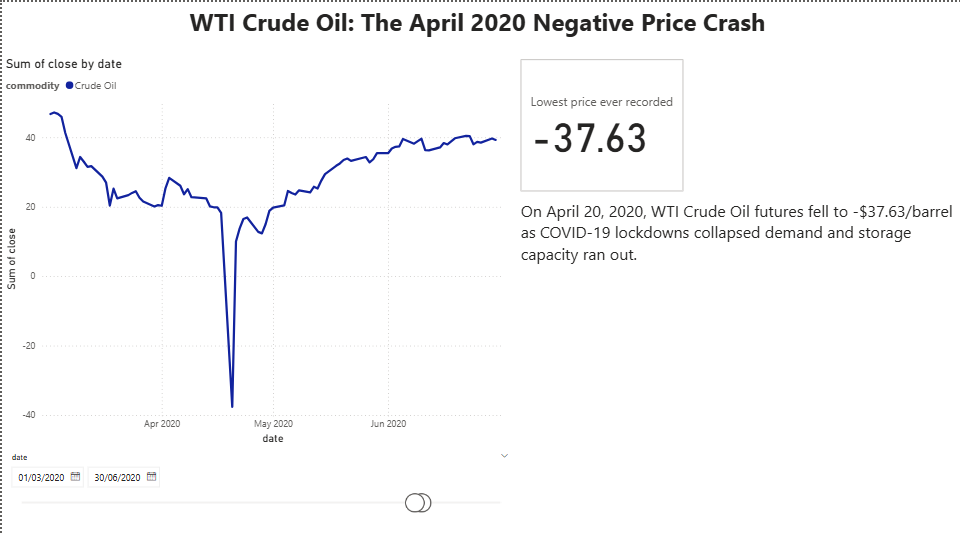

Layout of this report page (visuals, bound fields, positions):
{"tool":"powerbi","page":{"name":"2020-Oil Crash","canvas":[1280,720],"ordinal":1},"visuals":[{"type":"lineChart","title":"Sum of close by date","fields":{"Y":["Sum(all_fuels_cleaned.close)"],"Category":["all_fuels_cleaned.date"],"Series":["all_fuels_cleaned.commodity"]},"box":[0,71.4,687.5,522.8],"z":0},{"type":"slicer","fields":{"Values":["all_fuels_cleaned.date"]},"box":[0,594.2,687.5,126.2],"z":1},{"type":"textbox","box":[687.5,258,592.8,111.1],"z":2},{"type":"textbox","box":[244.3,0,790.4,71.4],"z":3},{"type":"cardVisual","fields":{"Data":["Min(all_fuels_cleaned.close)"]},"box":[687.5,71.4,227.8,186.6],"z":4}]}

Visuals, with their boxes in screenshot pixels (x1, y1, x2, y2), scaled from the page's 1280x720 canvas onto the 960x533 screenshot:
"Sum of close by date" lineChart: bbox=(0, 53, 516, 440)
slicer - all_fuels_cleaned.date: bbox=(0, 440, 516, 532)
textbox: bbox=(516, 191, 959, 273)
textbox: bbox=(183, 0, 776, 53)
cardVisual - Min(all_fuels_cleaned.close): bbox=(516, 53, 686, 191)
